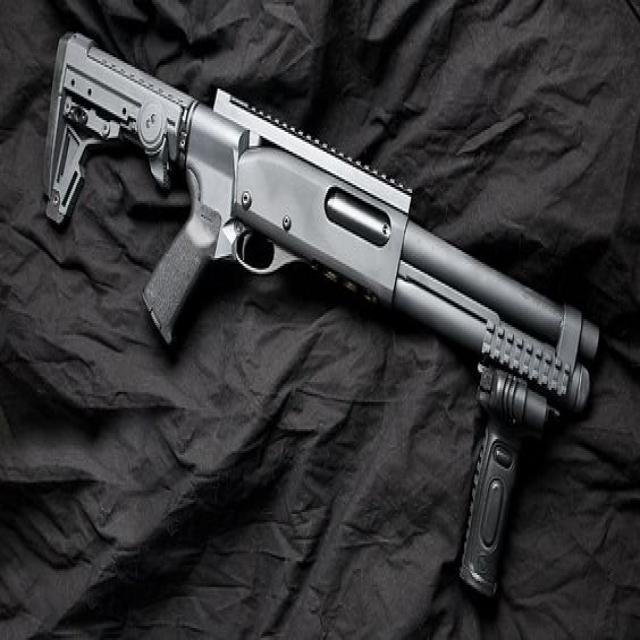shotgun: (41, 26, 606, 534)
